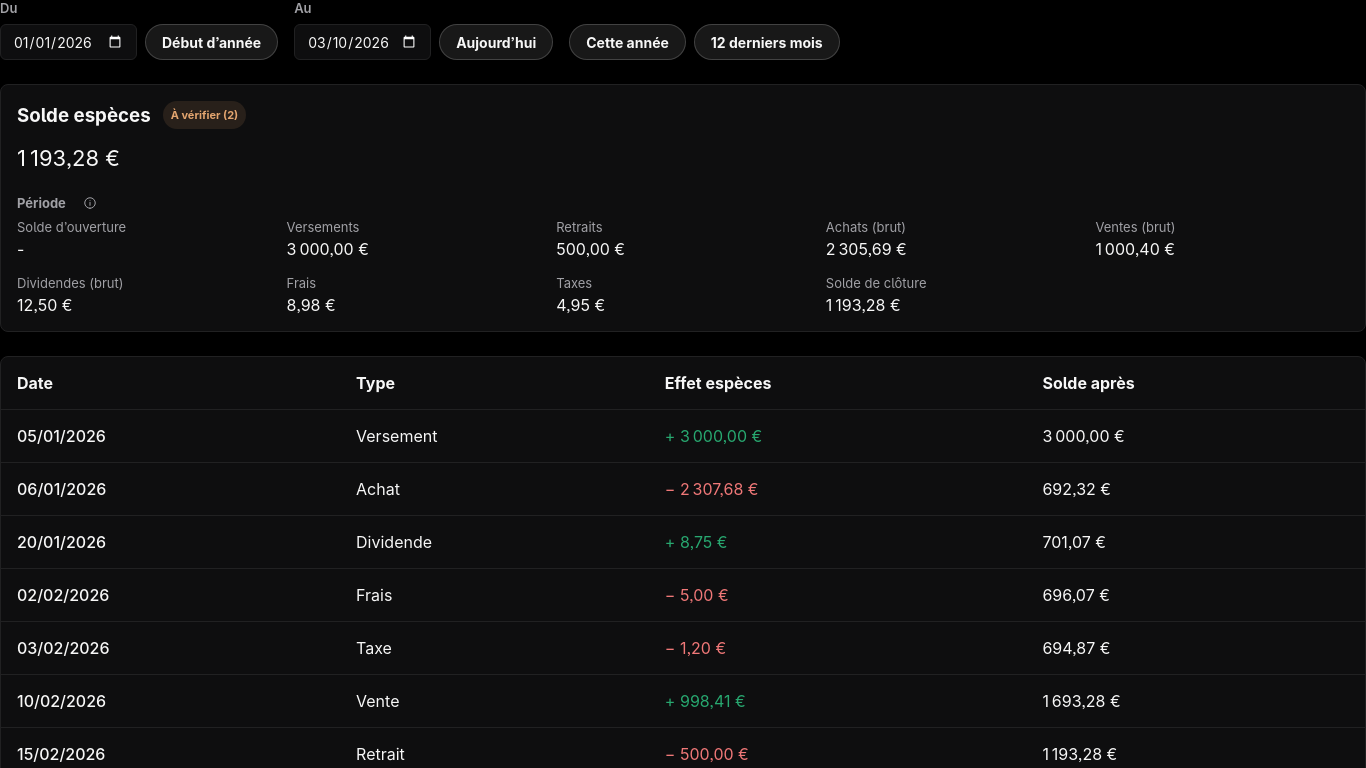
Test: CashTab › lists every warning with its count and links to the sources
The width and height of the screenshot is (1366, 768).
Click the button "À vérifier (2)" at {"x": 204, "y": 115}, box [163,101,246,129]
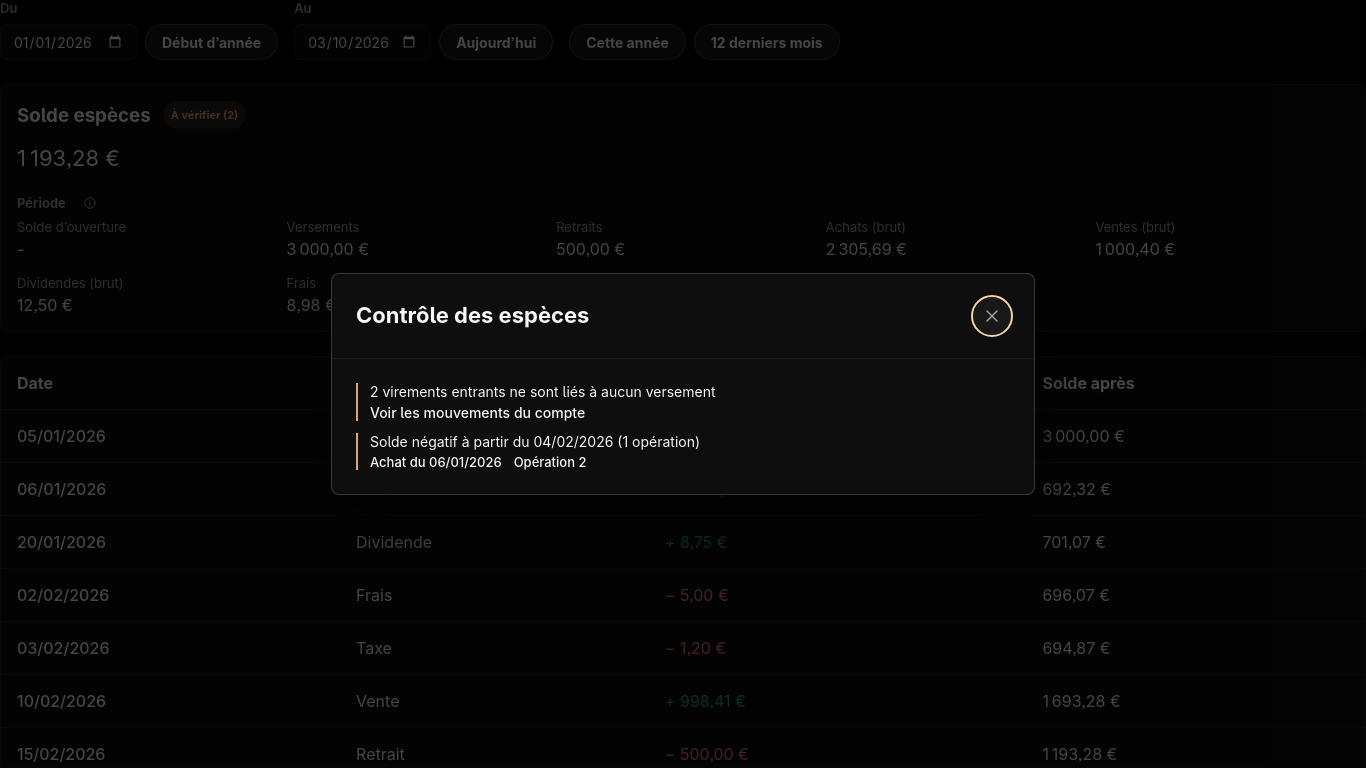
Expected: the dialog "Contrôle des espèces" is shown, [331,273,1035,495]
Expected: the text "2 virements entrants ne sont liés à aucun versement" is shown, [370,383,716,400]
Expected: the text "Solde négatif à partir du 04/02/2026 (1 opération)" is shown, [370,433,700,450]
